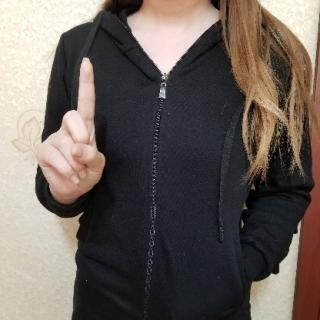BAA: (36, 54, 109, 207)
